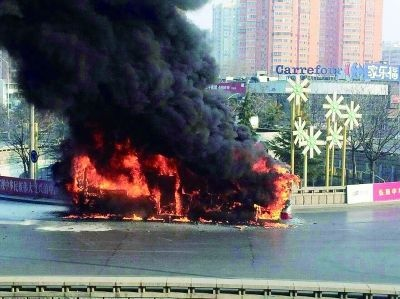fire: (72, 139, 299, 228)
